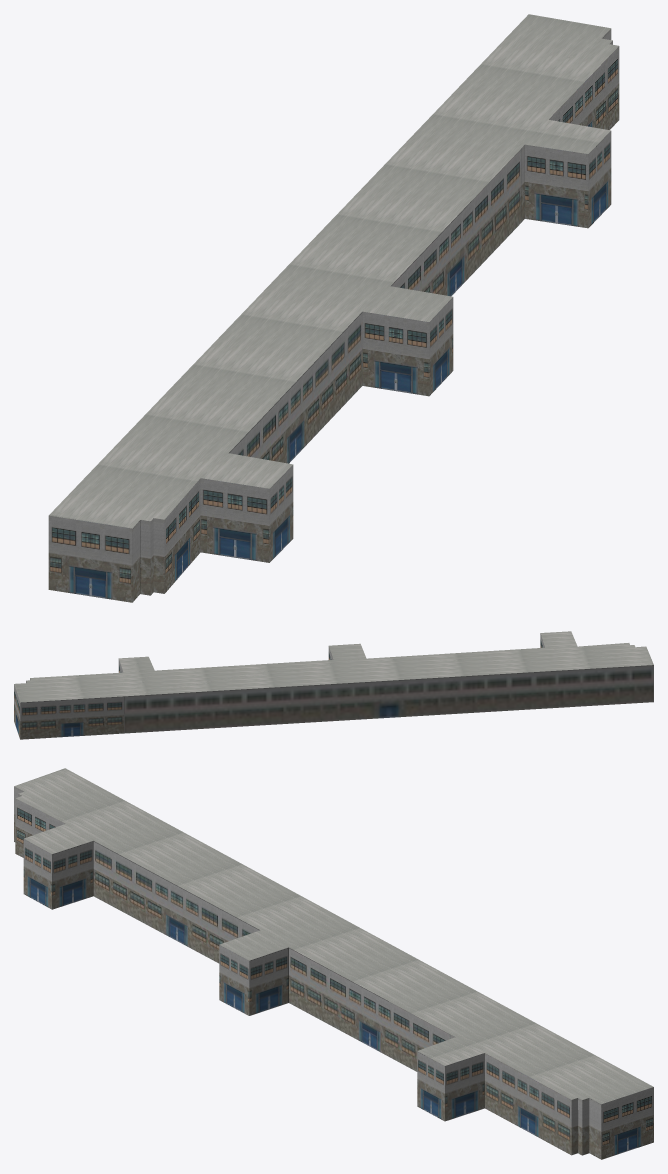
3 views of the same model, one above another, from view 1: azimuth 30°, elevation 25°; view 2: azimuth 150°, elevation 25°; view 3: azimuth 270°, elevation 25° (orthographic). The views are drawn at different scales.
Visible parts, largest first — view 1: BuildingMaster_1971194467634464720300000000_1, BuildingMaster_1971194467634464720300000000_0; view 2: BuildingMaster_1971194467634464720300000000_0, BuildingMaster_1971194467634464720300000000_1; view 3: BuildingMaster_1971194467634464720300000000_0, BuildingMaster_1971194467634464720300000000_1.
Boxes of the visible parts, <box> form: BuildingMaster_1971194467634464720300000000_1: <box>49,14,618,528</box>; BuildingMaster_1971194467634464720300000000_0: <box>48,29,619,602</box>; BuildingMaster_1971194467634464720300000000_0: <box>14,633,653,739</box>; BuildingMaster_1971194467634464720300000000_1: <box>14,631,653,702</box>; BuildingMaster_1971194467634464720300000000_0: <box>14,786,653,1159</box>; BuildingMaster_1971194467634464720300000000_1: <box>14,768,653,1104</box>.
Bounding box in the file's own units: 90.9 × 7 × 73.14.
Materials: 2 (2 with a texture image).
